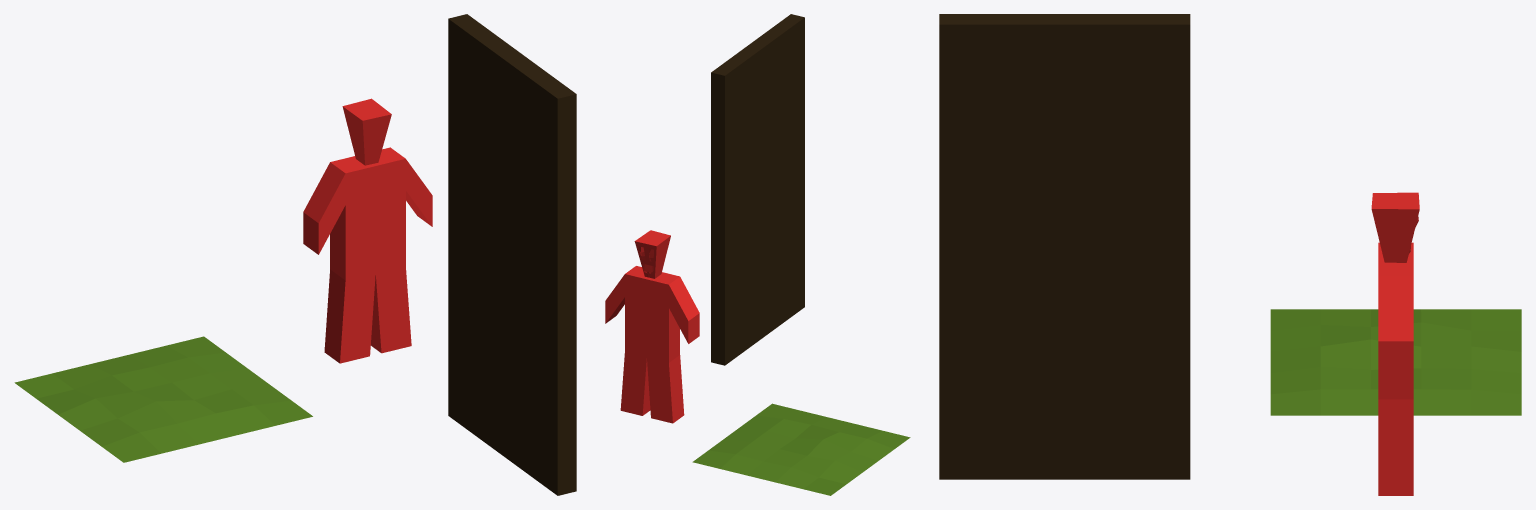
The model's file is models.gltf.
3 renders of one model, left to right at view 1: azimuth 30°, elevation 25°; view 2: azimuth 150°, elevation 25°; view 3: azimuth 270°, elevation 25°, orthographic. The views are drawn at different scales.
Parts seen in each view (by area): view 1: wall, character, grass; view 2: wall, character, grass; view 3: wall, grass, character.
Boxes of the visible parts, x1,y1,x2,y2 form: wall: (448, 14, 576, 495); character: (303, 98, 432, 363); grass: (14, 336, 312, 462); wall: (711, 14, 804, 365); character: (605, 230, 699, 423); grass: (692, 403, 910, 495); wall: (939, 14, 1190, 479); grass: (1270, 309, 1521, 415); character: (1371, 192, 1419, 495).
Size of the model in its own units: 1.88 by 2.01 by 2.32.
